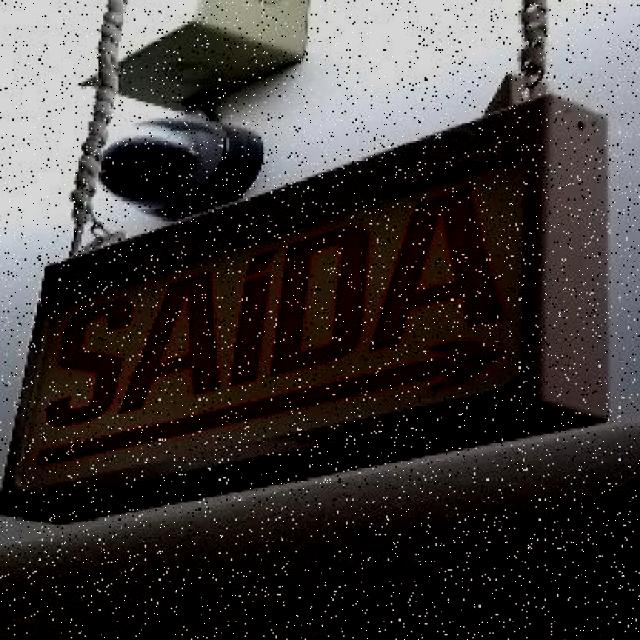emergency_exit: (3, 91, 610, 512)
